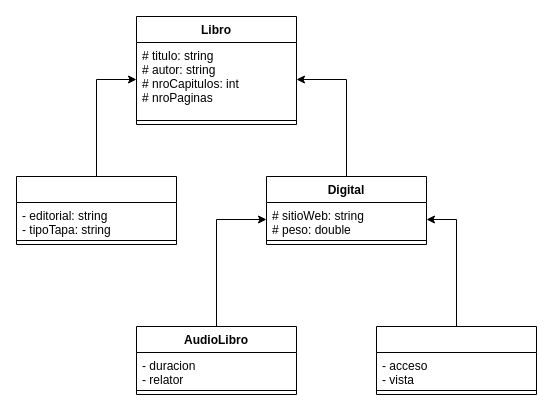
Image size: 553x411. Some labels were removed from this diagram. The shapes that lost their labels are listed below. From the top down, each one's box as (x1, y1, x2, y2) in pixels, then its label:
(16, 176, 176, 244): Fisico
(376, 326, 536, 394): LibroPdf
